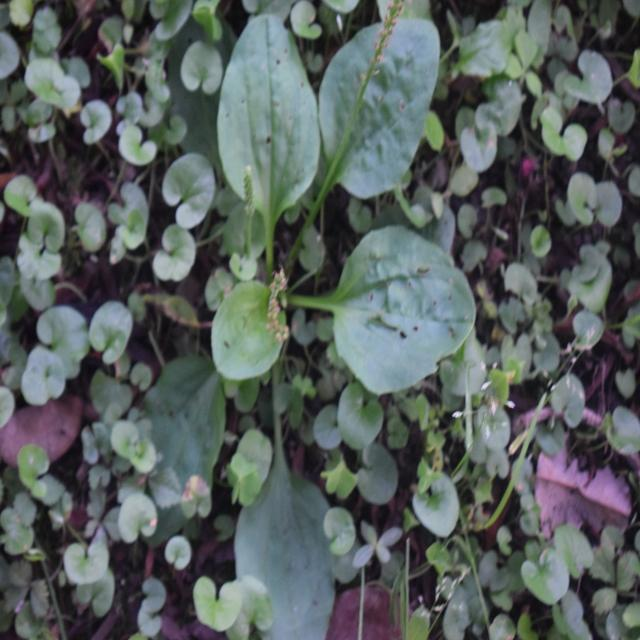plantain: (182, 18, 477, 580)
